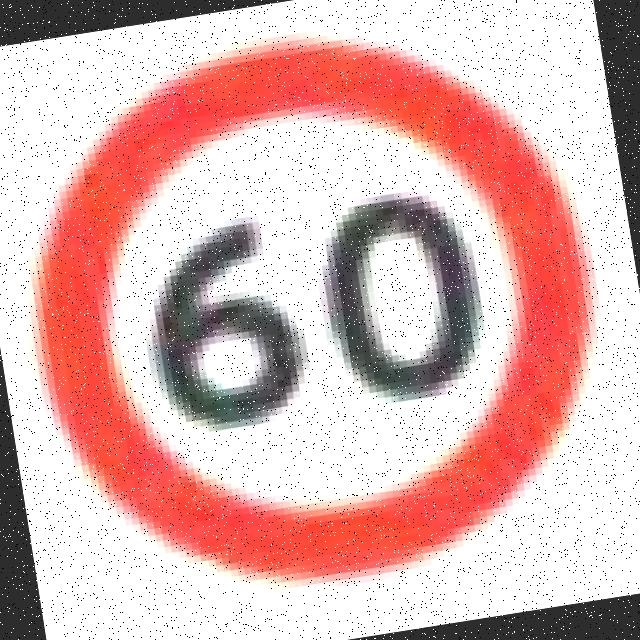Ograniczenie predkosci do 60: (0, 2, 621, 615)
